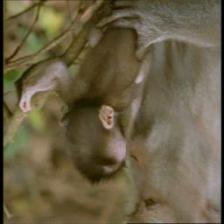monkey: (127, 109, 173, 219), (89, 119, 125, 182)
